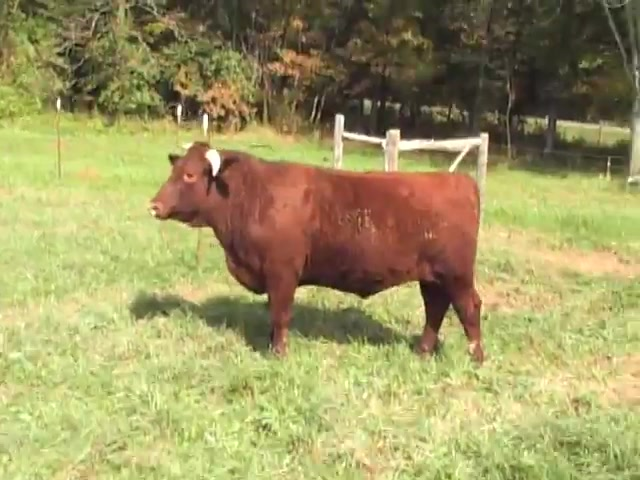cow: (149, 142, 486, 367)
